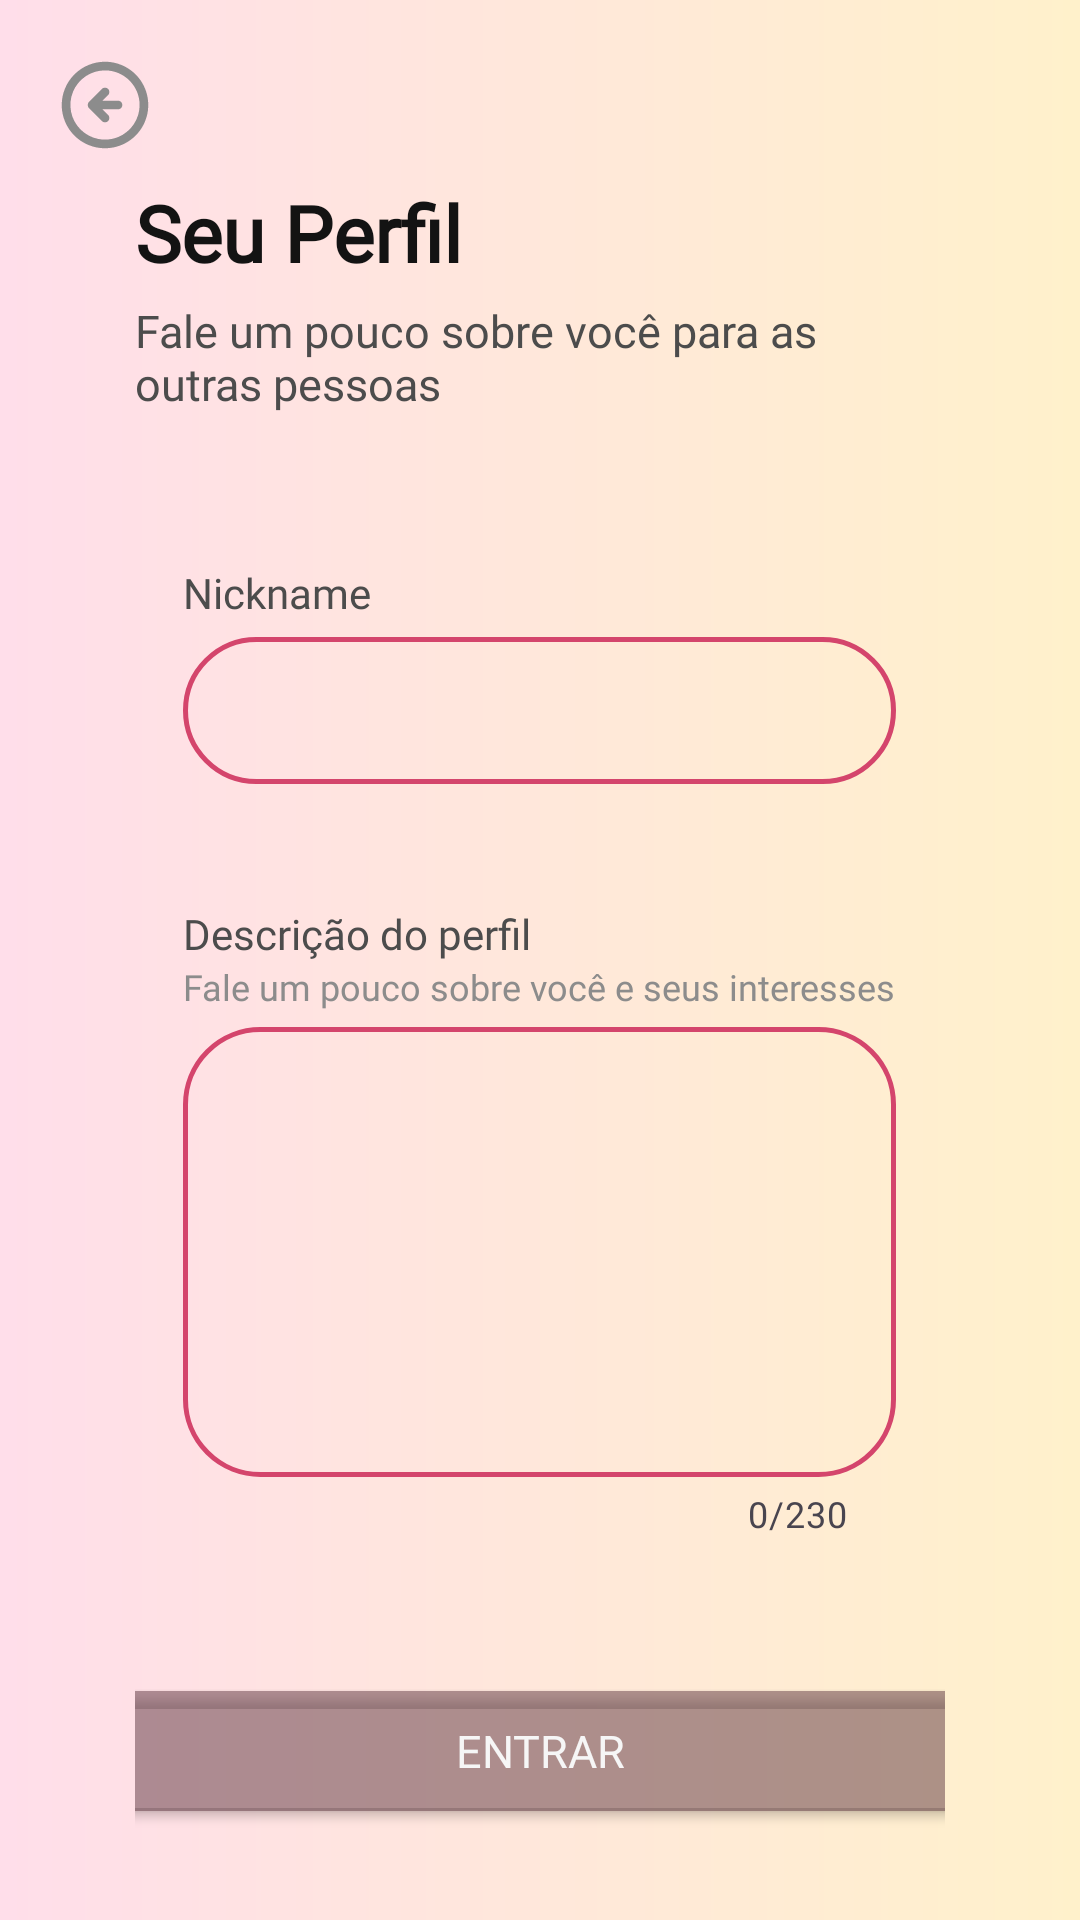

Point at icon controls on the screen. Image size 1080w x 1920h, points as (x=x, y=y).
arrow: (x=105, y=105)
